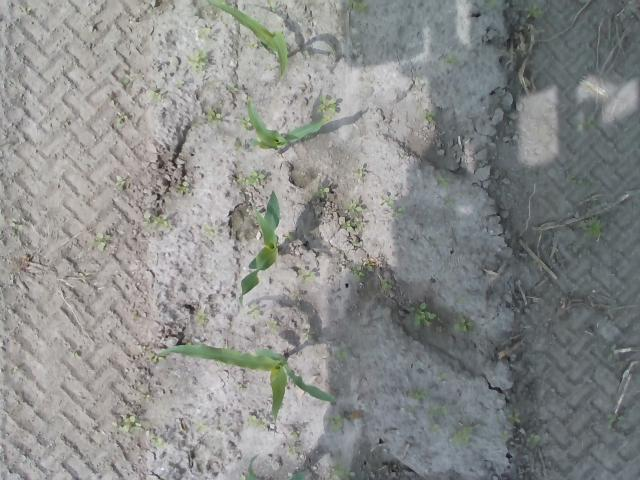Maize: (156, 344, 341, 430), (205, 0, 288, 81), (245, 96, 330, 150), (237, 191, 277, 305)
Weeds: (110, 414, 144, 434), (412, 302, 438, 328), (381, 196, 406, 218), (187, 48, 208, 69), (450, 424, 474, 442), (327, 464, 352, 480), (240, 168, 264, 184), (454, 316, 474, 334), (318, 96, 338, 112), (151, 214, 171, 229), (248, 302, 262, 320), (247, 415, 266, 428), (96, 232, 108, 252), (590, 216, 602, 236), (350, 0, 367, 13), (525, 5, 542, 18), (205, 110, 223, 122), (347, 203, 364, 215), (148, 353, 164, 365), (432, 404, 448, 416), (328, 416, 341, 430), (197, 27, 211, 40), (150, 434, 163, 447), (352, 268, 365, 280), (318, 184, 329, 198), (180, 180, 190, 194), (117, 112, 127, 126), (414, 390, 429, 399), (364, 262, 376, 273), (240, 117, 252, 128), (302, 271, 316, 280), (526, 433, 540, 442), (356, 166, 368, 176), (195, 312, 208, 321), (383, 278, 393, 288), (343, 222, 355, 230), (424, 112, 433, 122), (248, 40, 257, 50), (115, 179, 122, 190), (150, 90, 158, 98)
